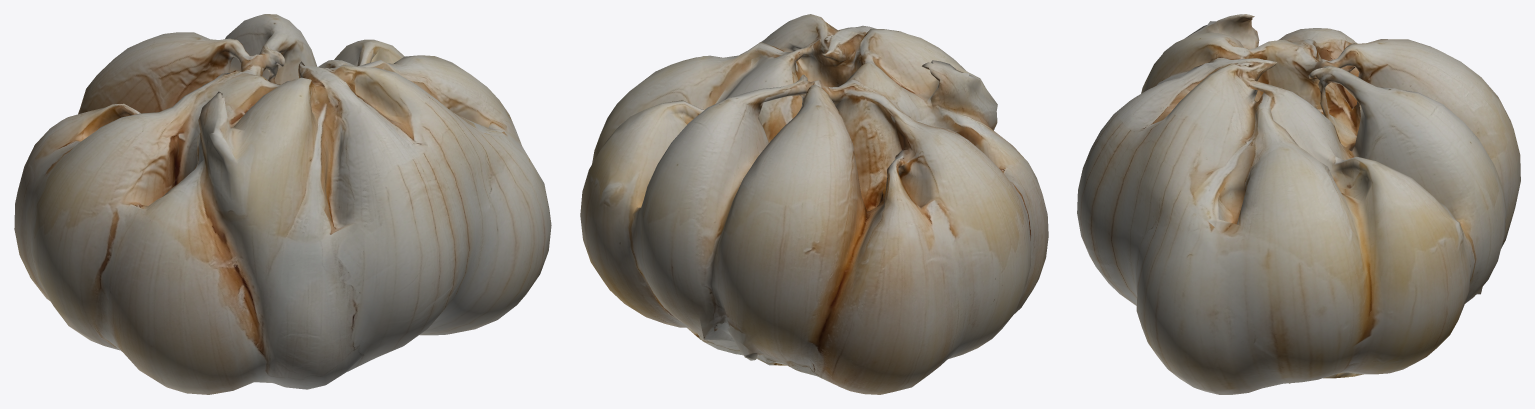
Rendered from kiri_ail.gltf.
3 views of the same model, side by side, from view 1: azimuth 30°, elevation 25°; view 2: azimuth 150°, elevation 25°; view 3: azimuth 270°, elevation 25° (orthographic). The views are drawn at different scales.
Parts seen in each view (by area): view 1: A80_Garlic; view 2: A80_Garlic; view 3: A80_Garlic.
Part boxes in pixels (x1,y1,x2,y2): A80_Garlic: (14,14,551,394); A80_Garlic: (580,14,1048,394); A80_Garlic: (1077,14,1520,394).
Size of the model in its own units: 0.034 by 0.0224 by 0.0299.
Materials: 1 (1 with a texture image).
